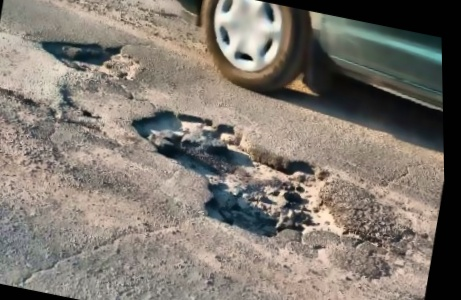pothole: (113, 93, 360, 256), (35, 25, 144, 84)
